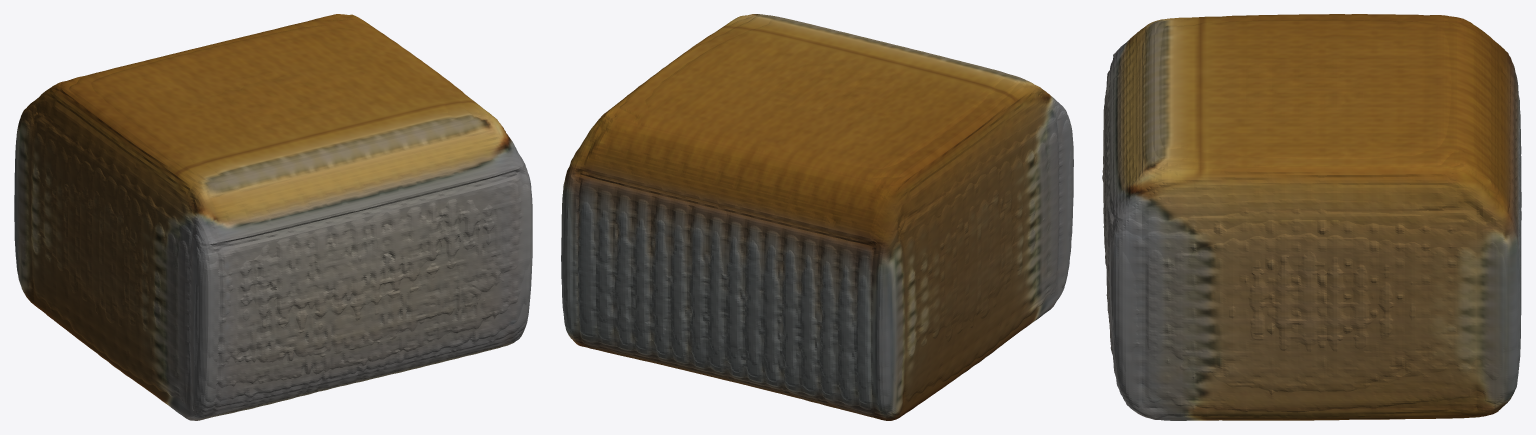
The model's file is ott-001.glb.
3 renders of one model, left to right at view 1: azimuth 30°, elevation 25°; view 2: azimuth 150°, elevation 25°; view 3: azimuth 270°, elevation 25°, orthographic. The views are drawn at different scales.
Visible parts, largest first — view 1: geometry_0; view 2: geometry_0; view 3: geometry_0.
Boxes of the visible parts, left/top/right/bottom form: geometry_0: left=14, top=14, right=532, bottom=420; geometry_0: left=561, top=14, right=1073, bottom=420; geometry_0: left=1102, top=14, right=1521, bottom=420.
Bounding box in the file's own units: 60 × 40 × 60.
